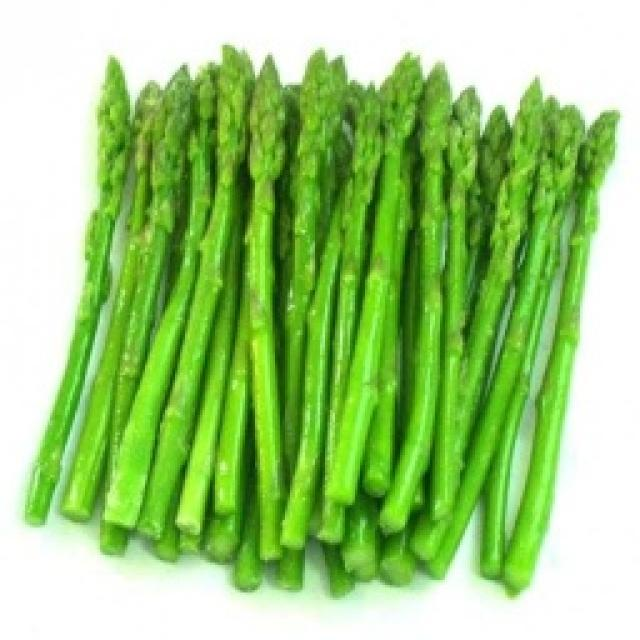Asparagus spear: (134, 48, 215, 466), (414, 60, 491, 463), (499, 80, 552, 540), (354, 44, 412, 462), (236, 54, 284, 558), (286, 50, 334, 457), (58, 71, 102, 506)
